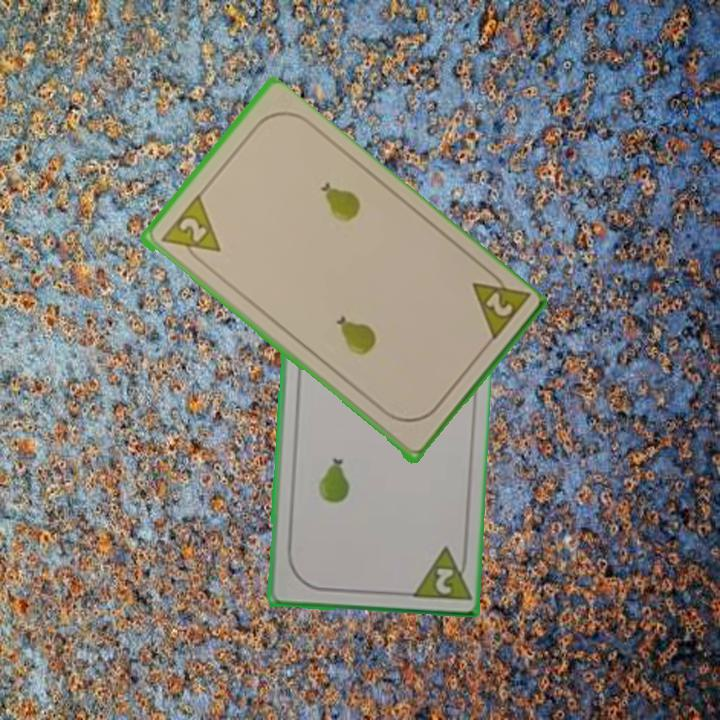2p: (157, 193, 223, 269), (406, 542, 471, 603), (481, 288, 516, 320)
